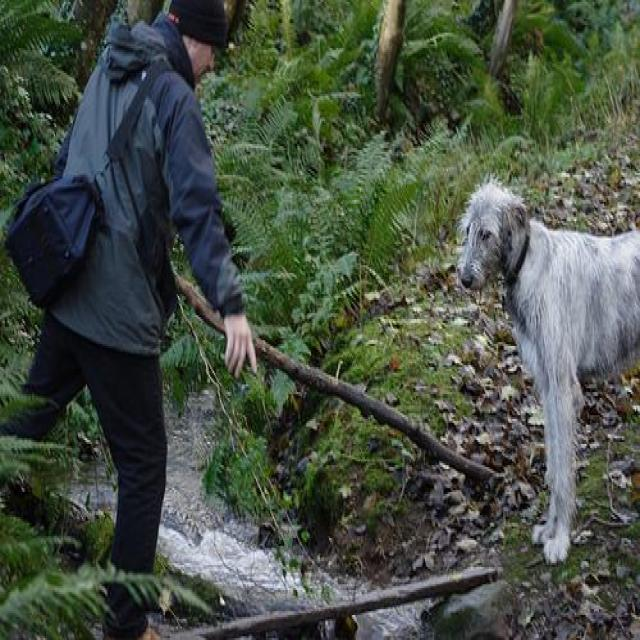irish_wolfhound: (454, 182, 639, 572)
